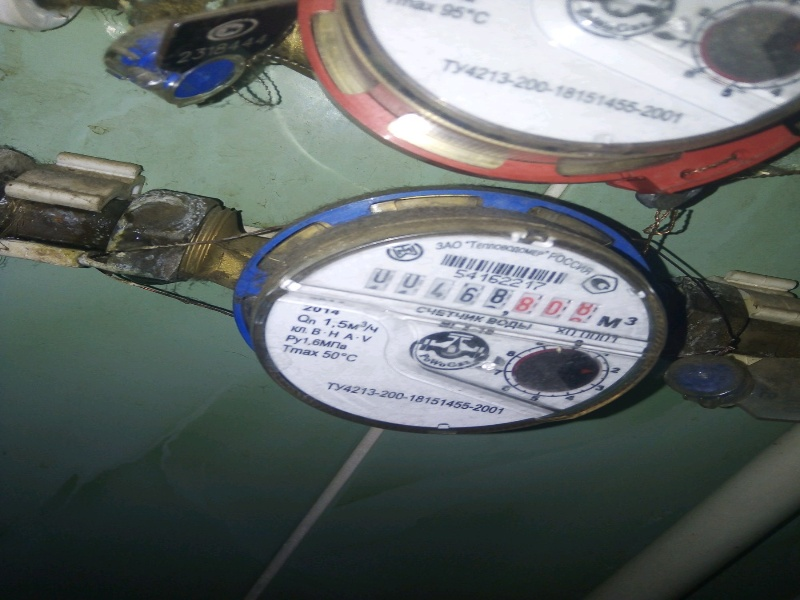meter: (368, 269, 589, 323)
